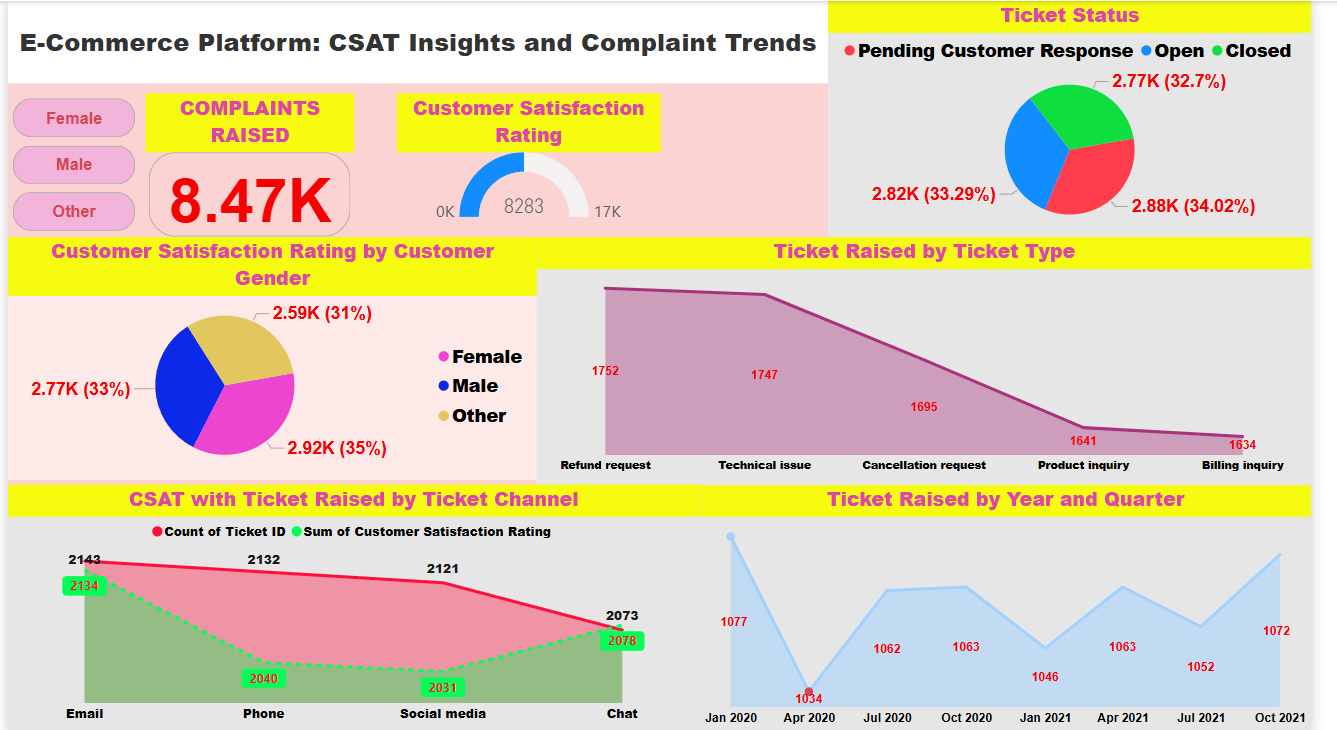

This screenshot's page, from the dashboard's own definition file:
{"tool":"powerbi","page":{"name":"csa","canvas":[1280,720],"ordinal":0},"visuals":[{"type":"pieChart","title":"Customer Satisfaction Rating by Customer Gender","fields":{"Category":["customer_support_tickets.Customer Gender"],"Y":["Sum(customer_support_tickets.Customer Satisfaction Rating)"]},"box":[0,231.9,519,238],"z":0},{"type":"cardVisual","title":" COMPLAINTS RAISED","fields":{"Data":["CountNonNull(customer_support_tickets.Ticket ID)"]},"box":[135,90.8,204.9,141.1],"z":1000},{"type":"pieChart","title":"Ticket Status","fields":{"Y":["CountNonNull(customer_support_tickets.Ticket ID)"],"Category":["customer_support_tickets.Ticket Status"]},"box":[804.9,0,474.8,231.9],"z":2000},{"type":"gauge","title":"Customer Satisfaction Rating","fields":{"Y":["Sum(customer_support_tickets.Customer Satisfaction Rating)"]},"box":[381.6,90.8,258.9,131.3],"z":3000},{"type":"stackedAreaChart","title":" Ticket Raised by Year and Quarter","fields":{"Category":["customer_support_tickets.Date of Purchase.Variation.Date Hierarchy.Year","customer_support_tickets.Date of Purchase.Variation.Date Hierarchy.Quarter"],"Y":["CountNonNull(customer_support_tickets.Ticket ID)"]},"box":[678.5,474.8,601.2,245.4],"z":4000},{"type":"stackedAreaChart","title":" Ticket Raised by Ticket Type","fields":{"Y":["CountNonNull(customer_support_tickets.Ticket ID)"],"Category":["customer_support_tickets.Ticket Type"]},"box":[519,231.9,760.7,242.9],"z":5000},{"type":"areaChart","title":"CSAT with Ticket Raised by Ticket Channel ","fields":{"Category":["customer_support_tickets.Ticket Channel"],"Y":["CountNonNull(customer_support_tickets.Ticket ID)","Sum(customer_support_tickets.Customer Satisfaction Rating)"]},"box":[0,474.8,678.5,245.4],"z":6000},{"type":"advancedSlicerVisual","fields":{"Values":["customer_support_tickets.Customer Gender"]},"box":[0,90.8,130.1,141.1],"z":7000},{"type":"textbox","box":[0,0,804.9,81],"z":8001}]}

Visuals, with their boxes on the page's 1280x720 design canvas (x1, y1, x2, y2). These are canvas units, not pixel positions in the 1337x730 screenshot, which may show the page scaled, cropped or inside an application window:
"Customer Satisfaction Rating by Customer Gender" pieChart: left=0, top=232, right=519, bottom=470
" COMPLAINTS RAISED" cardVisual: left=135, top=91, right=340, bottom=232
"Ticket Status" pieChart: left=805, top=0, right=1280, bottom=232
"Customer Satisfaction Rating" gauge: left=382, top=91, right=640, bottom=222
" Ticket Raised by Year and Quarter" stackedAreaChart: left=678, top=475, right=1280, bottom=720
" Ticket Raised by Ticket Type" stackedAreaChart: left=519, top=232, right=1280, bottom=475
"CSAT with Ticket Raised by Ticket Channel " areaChart: left=0, top=475, right=678, bottom=720
advancedSlicerVisual - customer_support_tickets.Customer Gender: left=0, top=91, right=130, bottom=232
textbox: left=0, top=0, right=805, bottom=81
